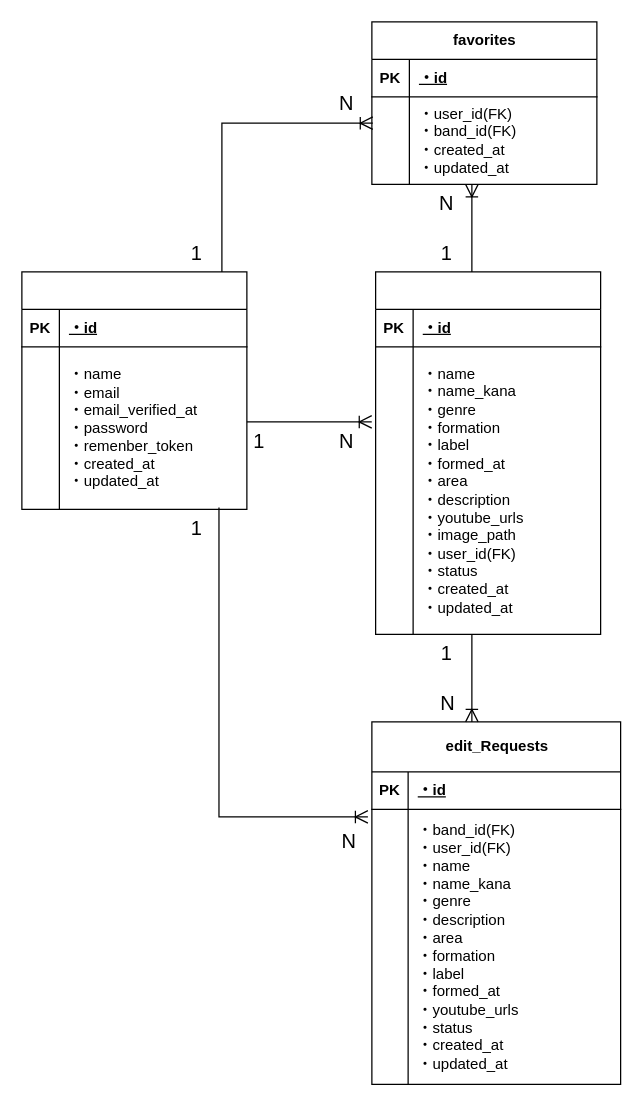
Some shapes in this 643 by 1106 pixel diagram are drawn without their labels. The box of each missing label's shape, as (x1, y1, x2, y2) in pixels:
bands: (374, 271, 601, 634)
users: (21, 271, 247, 509)
